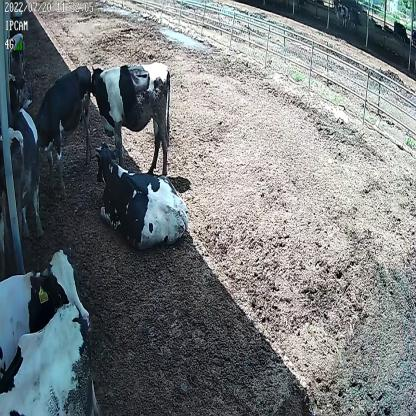cow: (94, 140, 191, 244), (89, 59, 172, 176), (28, 64, 93, 195)
